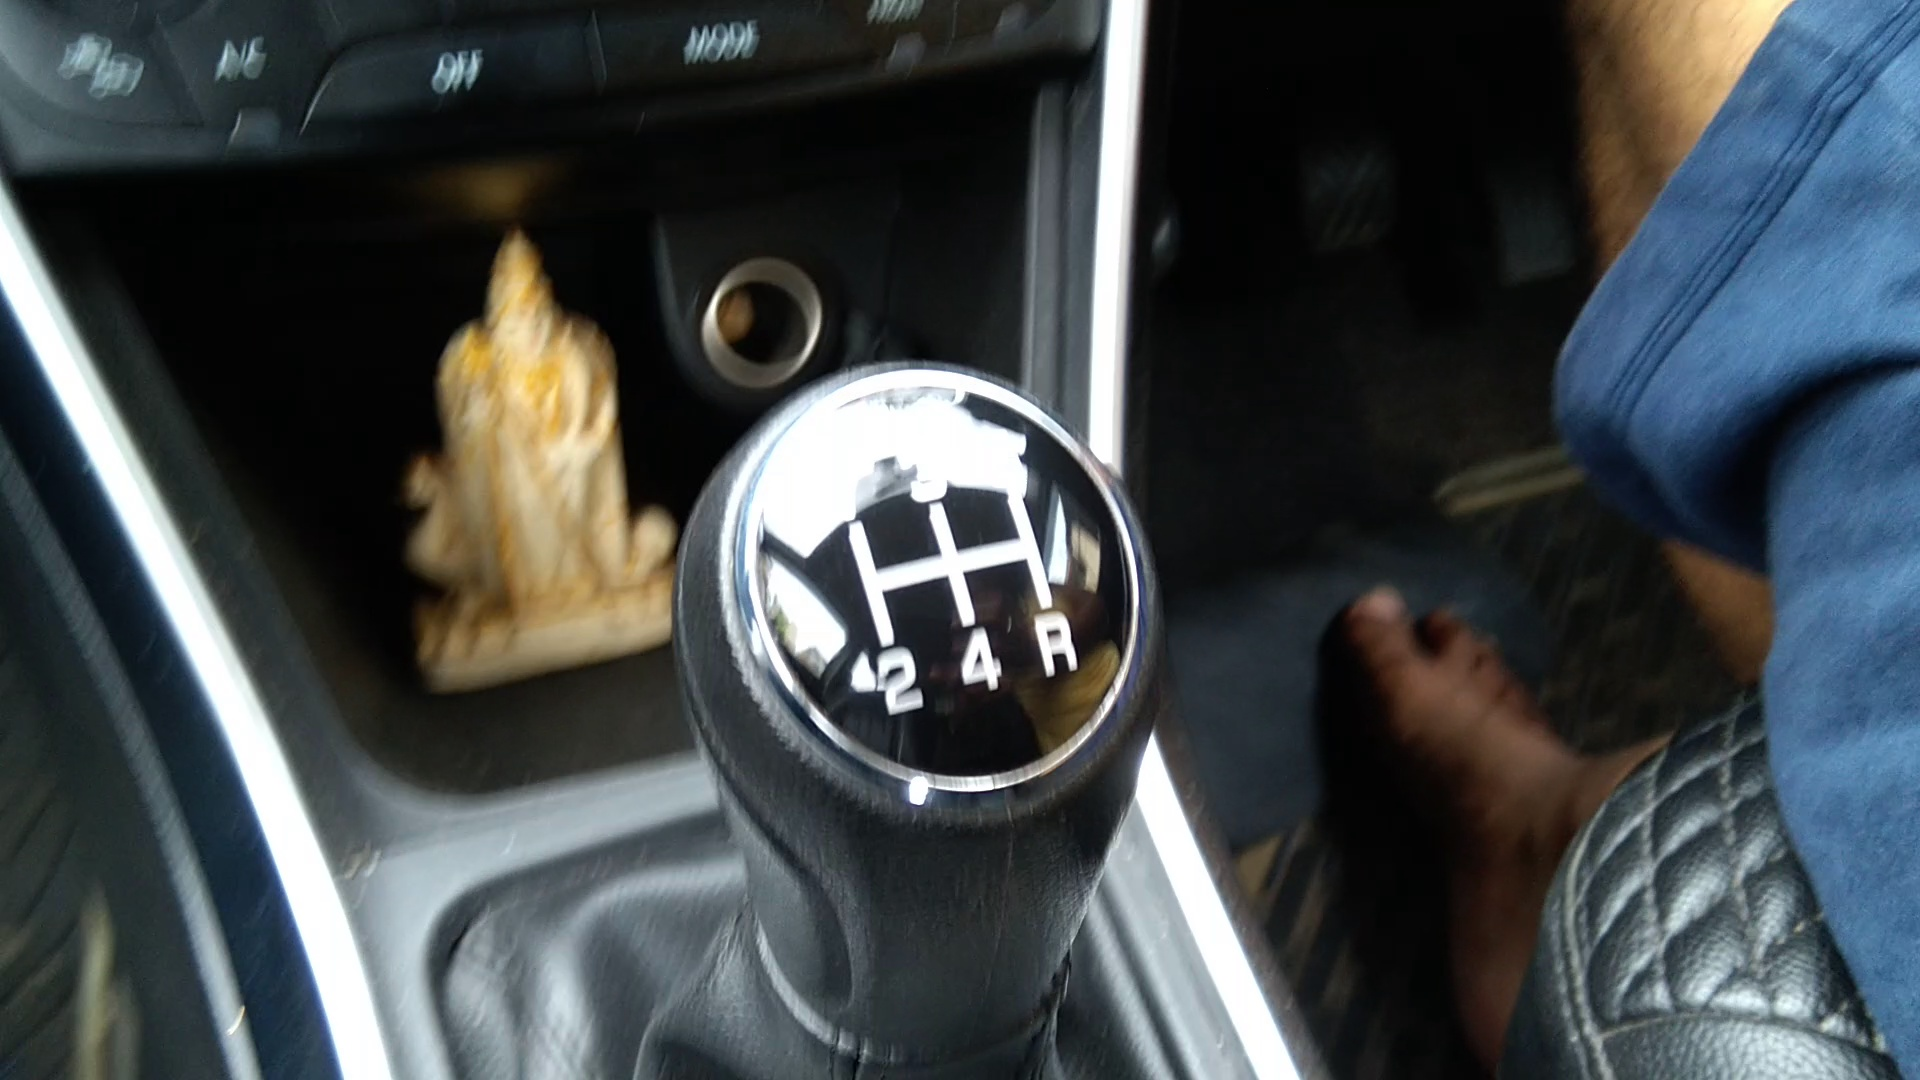manual_gear: (676, 349, 1159, 1062)
